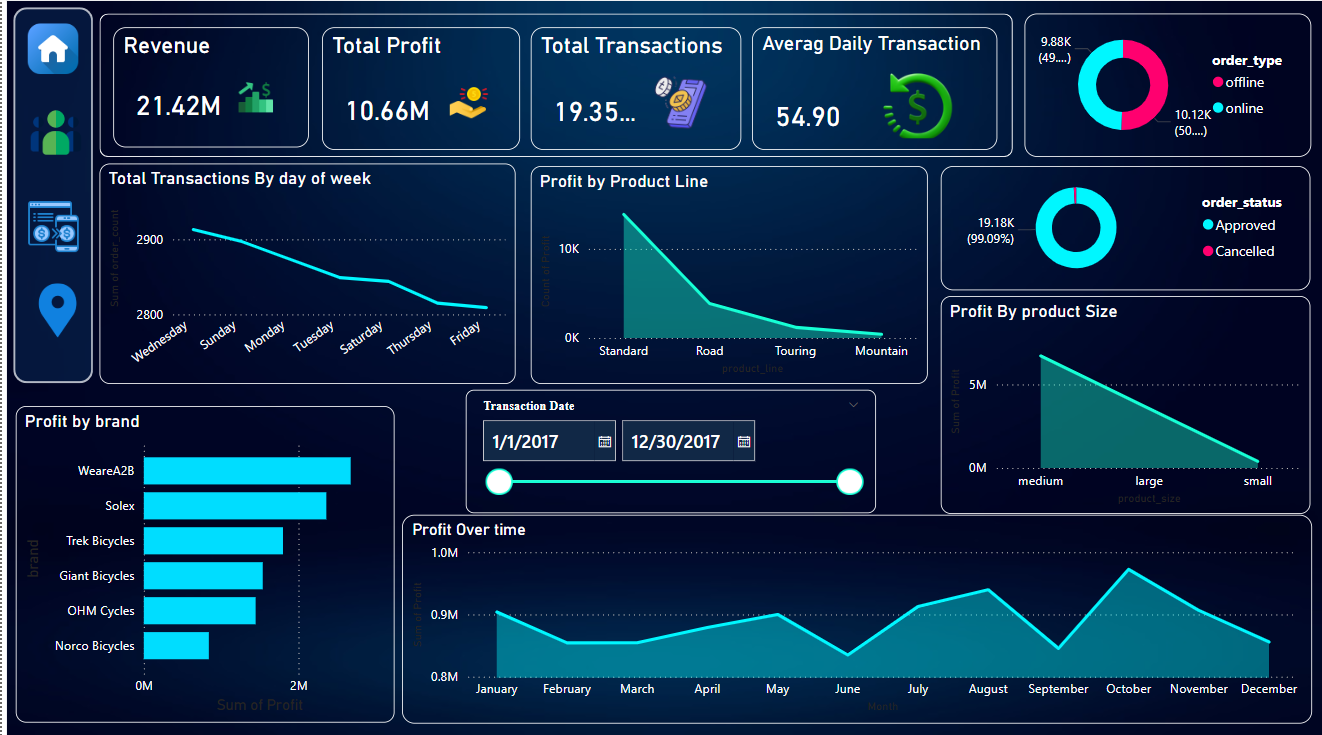

The dashboard page shown, as its layout file describes it:
{"tool":"powerbi","page":{"name":"Transaction","canvas":[1280,720],"ordinal":1},"visuals":[{"type":"image","box":[0,0,1280,720],"z":0},{"type":"shape","box":[15.7,20,77.1,372.9],"z":1000},{"type":"image","box":[15.7,40,78.6,58.6],"z":2000},{"type":"image","box":[20.5,129.1,68.8,57.9],"z":3000},{"type":"image","box":[18.6,312.9,75.7,61.4],"z":4000},{"type":"image","box":[15.7,222.9,72.9,61.4],"z":5000},{"type":"shape","box":[107.1,20,881.4,138.6],"z":6000},{"type":"cardVisual","title":"Total Profit","fields":{"Data":["Customer_Trans_RFM_Analysis (1).Total_Profit"]},"box":[318.6,40,191.4,105.7],"z":7000},{"type":"donutChart","title":"Revenue","fields":{"Category":["Online_order.order_type"],"Y":["CountNonNull(Online_order.transaction_id)"]},"box":[998.6,21.4,264.3,137.1],"z":8000},{"type":"stackedAreaChart","title":"Profit Over time","fields":{"Category":["Customer_Trans_RFM_Analysis (1).transaction_date.Variation.Date Hierarchy.Month","Customer_Trans_RFM_Analysis (1).transaction_date.Variation.Date Hierarchy.Day"],"Y":["Sum(Customer_Trans_RFM_Analysis (1).Profit)"]},"box":[381.4,500,881.4,201.4],"z":9000},{"type":"slicer","fields":{"Values":["Customer_Trans_RFM_Analysis (1).transaction_date"]},"box":[954.3,272.9,310,107.1],"z":10000},{"type":"lineChart","title":"Total Transactions By day of week ","fields":{"Category":["Number of transaction by week.day_of_week"],"Y":["Sum(Number of transaction by week.order_count)"]},"box":[107.1,174.3,354.3,218.6],"z":11000},{"type":"donutChart","title":"Revenue","fields":{"Category":["Customer_Trans_RFM_Analysis (1).order_status"],"Y":["CountNonNull(Customer_Trans_RFM_Analysis (1).transaction_id)"]},"box":[954.3,177.1,308.6,90],"z":12000},{"type":"cardVisual","title":"Revenue","fields":{"Data":["Sum(Customer_Trans_RFM_Analysis (1).list_price)"]},"box":[124.3,40,184.3,105.7],"z":13000},{"type":"cardVisual","title":"Total Transactions","fields":{"Data":["CountNonNull(Customer_Trans_RFM_Analysis (1).transaction_id)"]},"box":[521.4,40,202.9,105.7],"z":14000},{"type":"cardVisual","title":"Averag Daily Transaction","fields":{"Data":["Sum(Avg_daily_trans.avg_daily_transactions)"]},"box":[738.6,40,237.1,105.7],"z":15000},{"type":"columnChart","title":"Profit by brand","fields":{"Category":["Customer_Trans_RFM_Analysis (1).brand"],"Y":["Sum(Customer_Trans_RFM_Analysis (1).Profit)"]},"box":[15.7,417.1,348.6,284.3],"z":16000},{"type":"areaChart","title":"Total Transactions By day of week ","fields":{"Category":["Customer_Trans_RFM_Analysis (1).product_line"],"Y":["CountNonNull(Customer_Trans_RFM_Analysis (1).Profit)"]},"box":[622.9,177.1,317.1,202.9],"z":17000},{"type":"barChart","title":"Total Transactions By day of week ","fields":{"Category":["CustomerAddress_Cleaned.state"],"Y":["Sum(Customer_Trans_RFM_Analysis (1).list_price)"]},"box":[318.6,267.1,290,218.6],"z":18000},{"type":"image","box":[0,0,1280,720],"z":19000},{"type":"shape","box":[11.4,11.4,77.1,362.9],"z":20000},{"type":"image","box":[10,21.4,78.6,58.6],"z":21000},{"type":"image","box":[18.6,102.9,68.6,58.6],"z":22000},{"type":"image","box":[15.7,272.9,75.7,61.4],"z":23000},{"type":"image","box":[12.9,191.4,72.9,61.4],"z":24000},{"type":"shape","box":[94.3,17.1,881.4,138.6],"z":25000},{"type":"cardVisual","title":"Total Profit","fields":{"Data":["Customer_Trans_RFM_Analysis (1).Total_Profit"]},"box":[308.6,30,191.4,118.6],"z":26000},{"type":"donutChart","title":"Revenue","fields":{"Category":["Online_order.order_type"],"Y":["CountNonNull(Online_order.transaction_id)"]},"box":[987.1,17.1,277.1,138.6],"z":27000},{"type":"stackedAreaChart","title":"Profit Over time","fields":{"Category":["Customer_Trans_RFM_Analysis (1).transaction_date.Variation.Date Hierarchy.Month","Customer_Trans_RFM_Analysis (1).transaction_date.Variation.Date Hierarchy.Day"],"Y":["Sum(Customer_Trans_RFM_Analysis (1).Profit)"]},"box":[386.1,500.7,878.3,201.5],"z":28000},{"type":"slicer","fields":{"Values":["Customer_Trans_RFM_Analysis (1).transaction_date"]},"box":[447.6,380,395.7,119.4],"z":29000},{"type":"lineChart","title":"Total Transactions By day of week ","fields":{"Category":["Number of transaction by week.day_of_week"],"Y":["Sum(Number of transaction by week.order_count)"]},"box":[94.3,161.4,401.4,212.9],"z":30000},{"type":"donutChart","title":"Revenue","fields":{"Category":["Customer_Trans_RFM_Analysis (1).order_status"],"Y":["CountNonNull(Customer_Trans_RFM_Analysis (1).transaction_id)"]},"box":[905.7,164.3,357.1,120],"z":31000},{"type":"cardVisual","title":"Revenue","fields":{"Data":["Sum(Customer_Trans_RFM_Analysis (1).list_price)"]},"box":[107.1,30,188.6,115.7],"z":32000},{"type":"cardVisual","title":"Total Transactions","fields":{"Data":["CountNonNull(Customer_Trans_RFM_Analysis (1).transaction_id)"]},"box":[510,30,202.9,118.6],"z":33000},{"type":"cardVisual","title":"Averag Daily Transaction","fields":{"Data":["Sum(Avg_daily_trans.avg_daily_transactions)"]},"box":[724.3,30,237.1,118.6],"z":34000},{"type":"areaChart","title":"Profit by Product Line","fields":{"Category":["Customer_Trans_RFM_Analysis (1).product_line"],"Y":["CountNonNull(Customer_Trans_RFM_Analysis (1).Profit)"]},"box":[510,164.3,382.9,210],"z":35000},{"type":"barChart","title":"Profit by brand","fields":{"Category":["Customer_Trans_RFM_Analysis (1).brand"],"Y":["Sum(Customer_Trans_RFM_Analysis (1).Profit)"]},"box":[12.9,395.7,365.7,305.7],"z":36000},{"type":"areaChart","title":"Profit By product Size","fields":{"Y":["Sum(Customer_Trans_RFM_Analysis (1).Profit)"],"Category":["Customer_Trans_RFM_Analysis (1).product_size"]},"box":[905.7,290,357.1,210],"z":37000}]}

Visuals, with their boxes in screenshot pixels (x1, y1, x2, y2), scaled from the page's 1280x720 canvas onto the 1322x735 screenshot:
image: rect(0, 0, 1321, 734)
shape: rect(16, 20, 96, 401)
image: rect(16, 41, 97, 101)
image: rect(21, 132, 92, 191)
image: rect(19, 319, 97, 382)
image: rect(16, 228, 92, 290)
shape: rect(111, 20, 1021, 162)
"Total Profit" cardVisual: rect(329, 41, 527, 149)
"Revenue" donutChart: rect(1031, 22, 1304, 162)
"Profit Over time" stackedAreaChart: rect(394, 510, 1304, 716)
slicer - Customer_Trans_RFM_Analysis (1).transaction_date: rect(986, 279, 1306, 388)
"Total Transactions By day of week " lineChart: rect(111, 178, 477, 401)
"Revenue" donutChart: rect(986, 181, 1304, 273)
"Revenue" cardVisual: rect(128, 41, 319, 149)
"Total Transactions" cardVisual: rect(539, 41, 748, 149)
"Averag Daily Transaction" cardVisual: rect(763, 41, 1008, 149)
"Profit by brand" columnChart: rect(16, 426, 376, 716)
"Total Transactions By day of week " areaChart: rect(643, 181, 971, 388)
"Total Transactions By day of week " barChart: rect(329, 273, 629, 496)
image: rect(0, 0, 1321, 734)
shape: rect(12, 12, 91, 382)
image: rect(10, 22, 92, 82)
image: rect(19, 105, 90, 165)
image: rect(16, 279, 94, 341)
image: rect(13, 195, 89, 258)
shape: rect(97, 17, 1008, 159)
"Total Profit" cardVisual: rect(319, 31, 516, 152)
"Revenue" donutChart: rect(1019, 17, 1306, 159)
"Profit Over time" stackedAreaChart: rect(399, 511, 1306, 717)
slicer - Customer_Trans_RFM_Analysis (1).transaction_date: rect(462, 388, 871, 510)
"Total Transactions By day of week " lineChart: rect(97, 165, 512, 382)
"Revenue" donutChart: rect(935, 168, 1304, 290)
"Revenue" cardVisual: rect(111, 31, 305, 149)
"Total Transactions" cardVisual: rect(527, 31, 736, 152)
"Averag Daily Transaction" cardVisual: rect(748, 31, 993, 152)
"Profit by Product Line" areaChart: rect(527, 168, 922, 382)
"Profit by brand" barChart: rect(13, 404, 391, 716)
"Profit By product Size" areaChart: rect(935, 296, 1304, 510)
